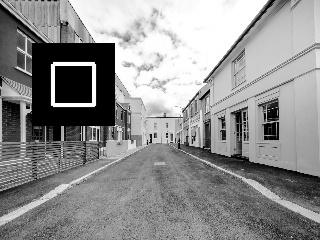square: (32, 43, 115, 125)
